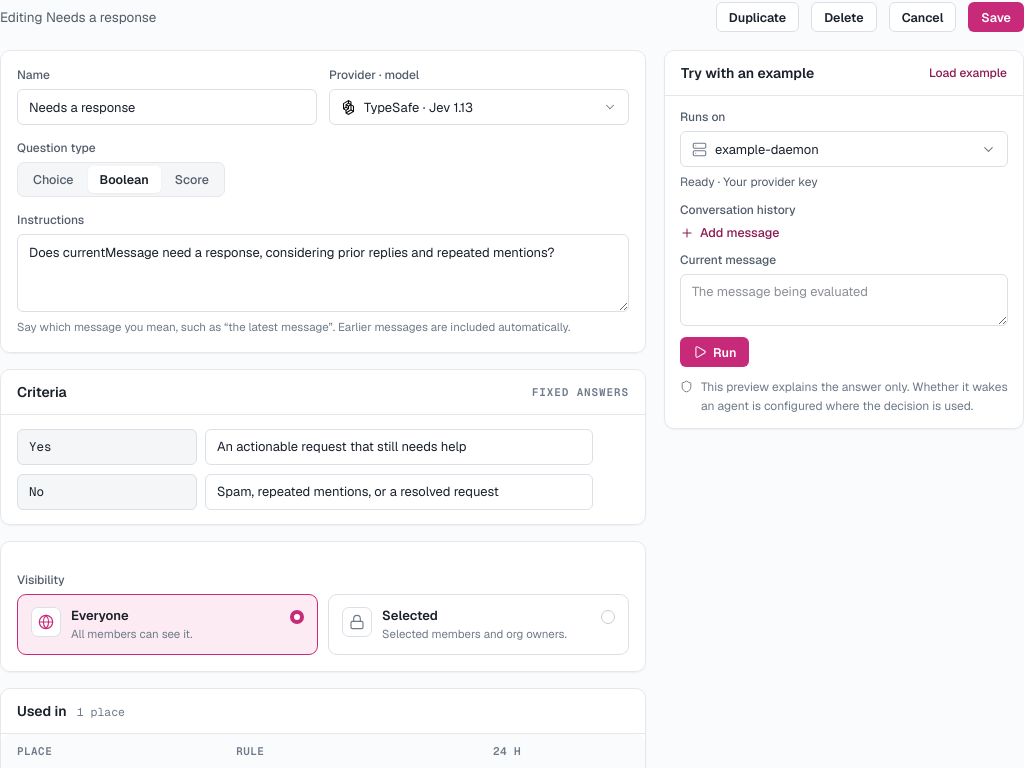
Test case: DecisionEditorView › keeps a 409 with no visible usages in use (hidden 2)
The width and height of the screenshot is (1024, 768).
What coordinates should you click on to do the following:
click the button "Delete"
I would click on:
 (844, 17)
Its box is x1=811 y1=2 x2=877 y2=32.
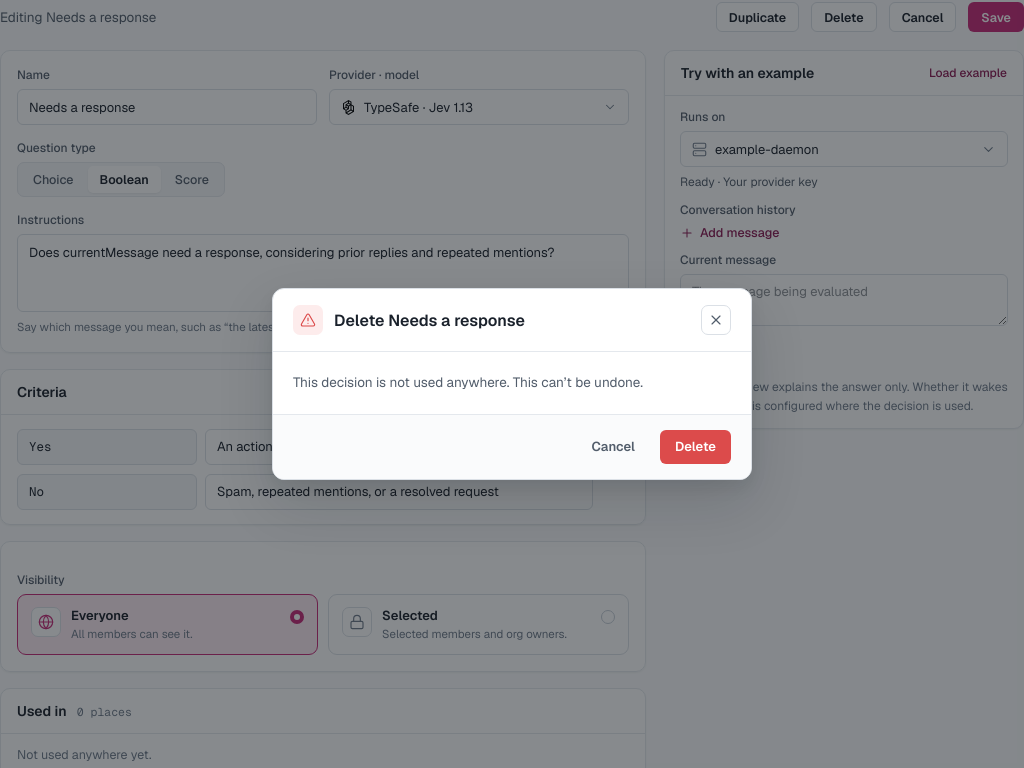
What coordinates should you click on to do the following:
click the button "Delete"
I would click on:
 (695, 447)
Its box is x1=660 y1=430 x2=731 y2=464.
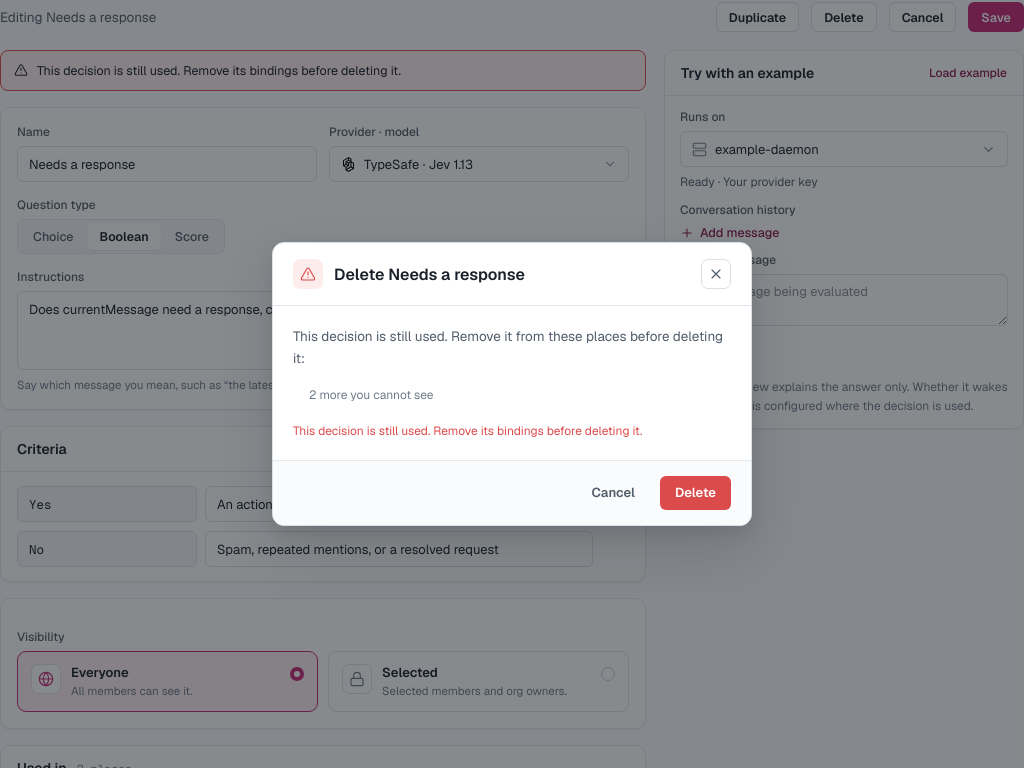
Check: the text "This decision is not used anywhere." is gone
Check: the dialog shows "This decision is still used. Remove it from these places before deleting it:", box x1=293 y1=327 x2=723 y2=367
Check: the dialog shows "2 more you cannot see", box x1=309 y1=387 x2=434 y2=403
